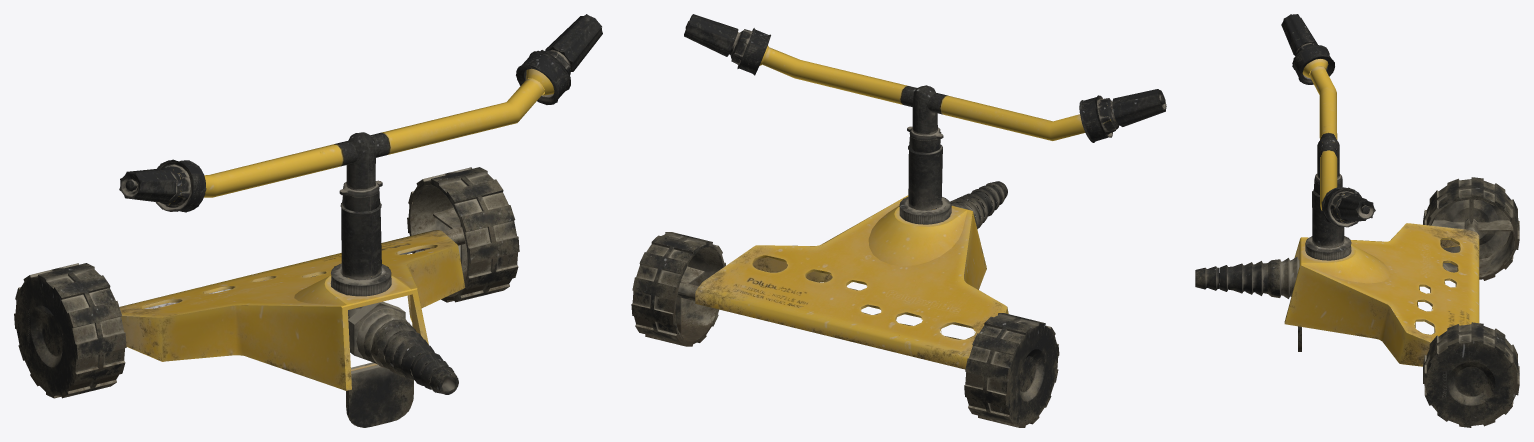
Rendered from Sprinkler.obj.
3 views of the same model, side by side, from view 1: azimuth 30°, elevation 25°; view 2: azimuth 150°, elevation 25°; view 3: azimuth 270°, elevation 25° (orthographic). The views are drawn at different scales.
Visible parts, largest first — view 1: Sprinkler; view 2: Sprinkler; view 3: Sprinkler.
Part boxes in pixels (x1,y1,x2,y2): Sprinkler: [14, 14, 602, 427]; Sprinkler: [631, 14, 1166, 427]; Sprinkler: [1195, 14, 1519, 427].
Bounding box in the file's own units: 3.46 × 2 × 2.45.
